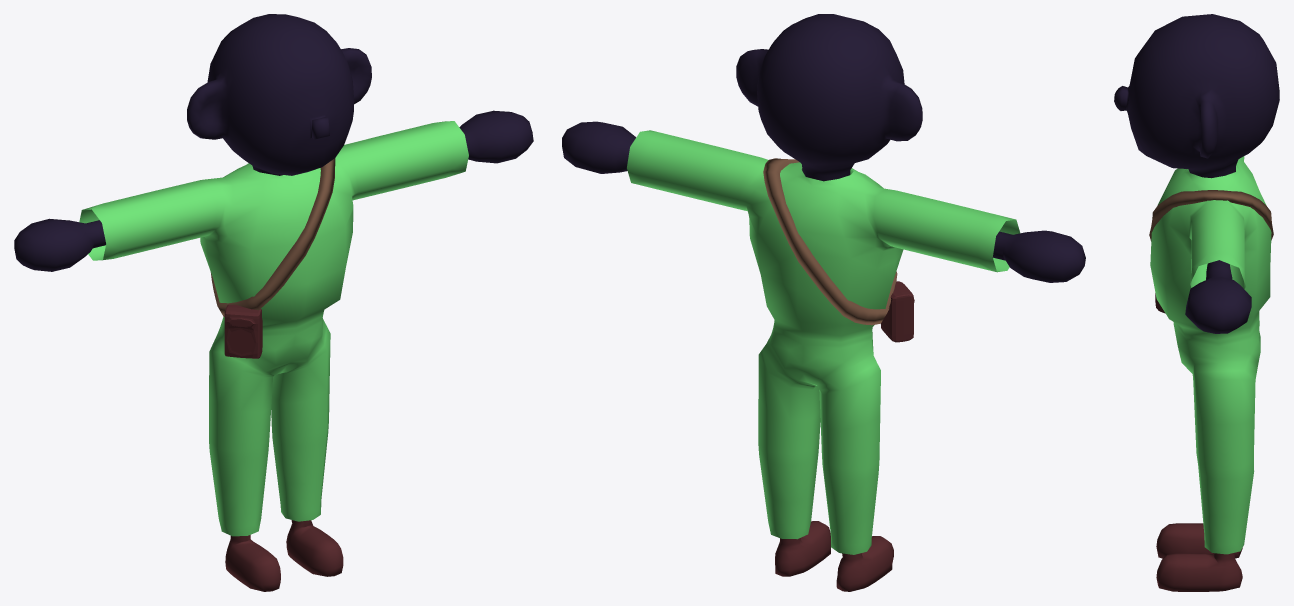
Rendered from Healer.fbx.
3 renders of one model, left to right at view 1: azimuth 30°, elevation 25°; view 2: azimuth 150°, elevation 25°; view 3: azimuth 270°, elevation 25°, orthographic.
Visible parts, largest first — view 1: BodyHealer, HeadHealer, HandHealer, ShoesHealer, Cylinder, packet; view 2: BodyHealer, HeadHealer, HandHealer, ShoesHealer, Cylinder, packet; view 3: BodyHealer, HeadHealer, ShoesHealer, HandHealer, Cylinder.
Part boxes in pixels (<box>): BodyHealer: <box>79,121,468,536</box>; HeadHealer: <box>187,14,371,175</box>; HandHealer: <box>14,110,533,271</box>; ShoesHealer: <box>225,520,343,591</box>; Cylinder: <box>210,158,335,316</box>; packet: <box>224,304,262,358</box>; BodyHealer: <box>627,130,1020,554</box>; HeadHealer: <box>736,14,922,181</box>; HandHealer: <box>562,121,1085,282</box>; ShoesHealer: <box>775,521,893,591</box>; Cylinder: <box>763,158,897,325</box>; packet: <box>881,281,914,342</box>; BodyHealer: <box>1150,156,1271,554</box>; HeadHealer: <box>1114,14,1279,178</box>; ShoesHealer: <box>1156,523,1242,591</box>; HandHealer: <box>1185,260,1251,333</box>; Cylinder: <box>1149,190,1273,241</box>.
Bounding box in the file's own units: 646 × 656 × 179.
